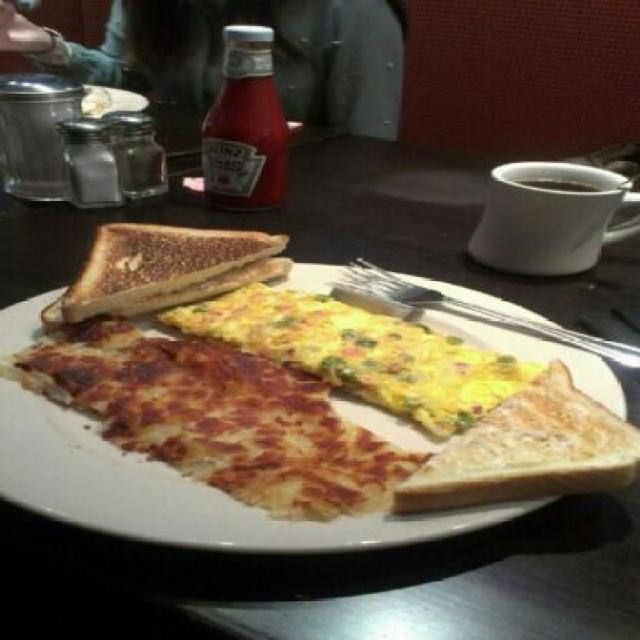Sandwich: (386, 358, 640, 518), (40, 219, 289, 327)
